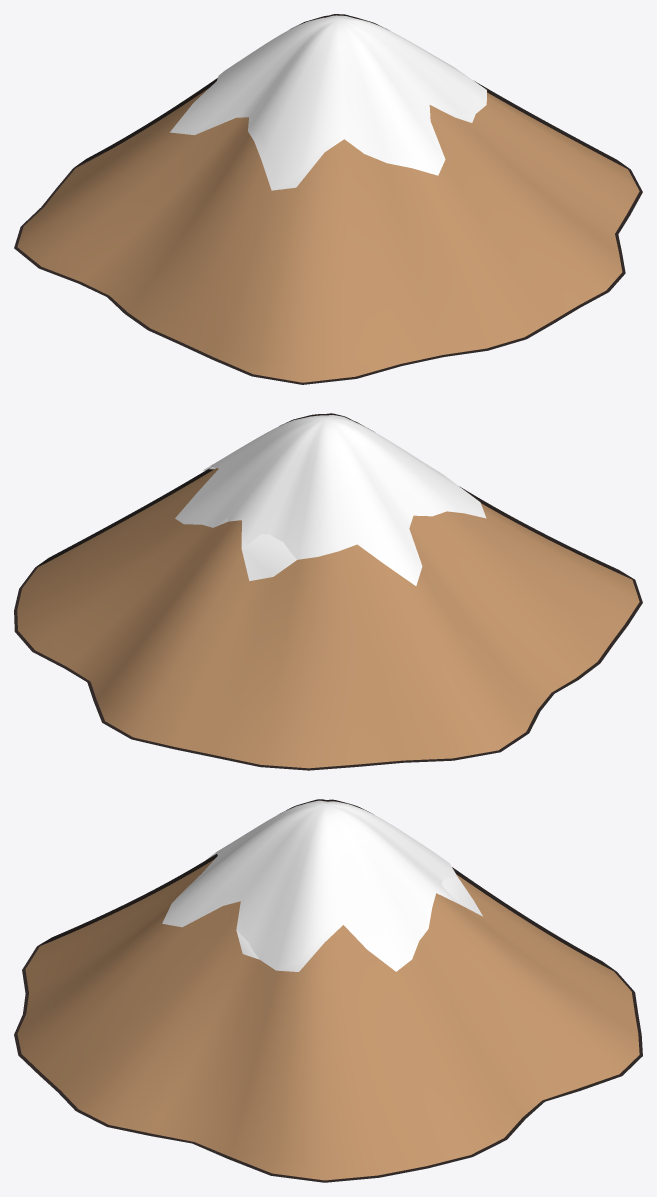
Rendered from BG_Mountain_D.fbx.
3 views of the same model, one above another, from view 1: azimuth 30°, elevation 25°; view 2: azimuth 150°, elevation 25°; view 3: azimuth 270°, elevation 25° (orthographic). The views are drawn at different scales.
Visible parts, largest first — view 1: BG_Mountain_D_Mountain, BG_Mountain_D_Snow, BG_Mountain_D_Outline; view 2: BG_Mountain_D_Mountain, BG_Mountain_D_Snow, BG_Mountain_D_Outline; view 3: BG_Mountain_D_Mountain, BG_Mountain_D_Snow, BG_Mountain_D_Outline.
Boxes of the visible parts, box(x1,y1,x2,y2) form: BG_Mountain_D_Mountain: box(17, 87, 639, 382); BG_Mountain_D_Snow: box(170, 15, 486, 190); BG_Mountain_D_Outline: box(14, 14, 642, 384); BG_Mountain_D_Mountain: box(17, 468, 639, 768); BG_Mountain_D_Snow: box(175, 415, 486, 585); BG_Mountain_D_Outline: box(14, 413, 642, 770); BG_Mountain_D_Mountain: box(17, 859, 639, 1180); BG_Mountain_D_Snow: box(162, 800, 482, 971); BG_Mountain_D_Outline: box(14, 799, 642, 1182).
Bounding box in the file's own units: 54.72 × 21.31 × 52.67.
